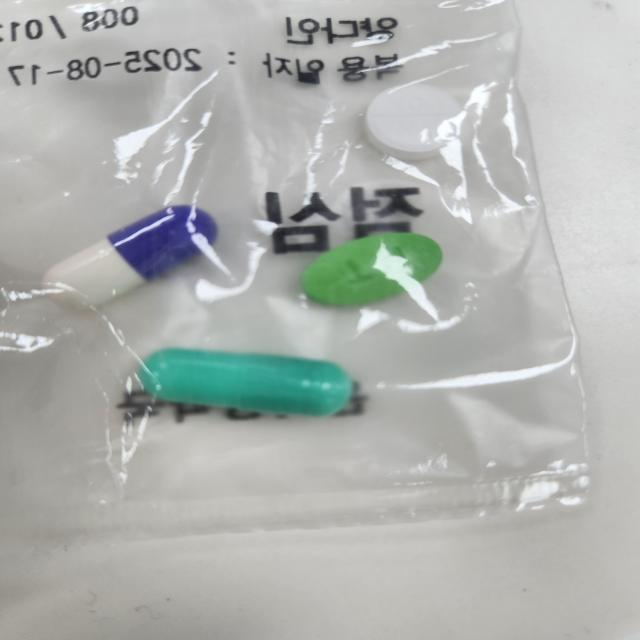러키펜정: (365, 84, 465, 158)
씨엠지세파클러캡슐: (39, 207, 219, 310)
에르도캡슐: (134, 349, 355, 418)
휴티렌정: (300, 230, 445, 307)
